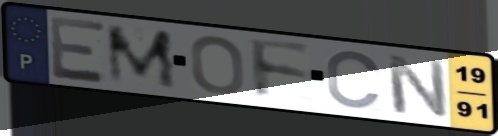C: (324, 48, 385, 111)
E: (46, 14, 109, 86)
F: (247, 36, 315, 102)
M: (103, 24, 181, 91)
N: (383, 53, 452, 121)
O: (188, 33, 247, 97)
